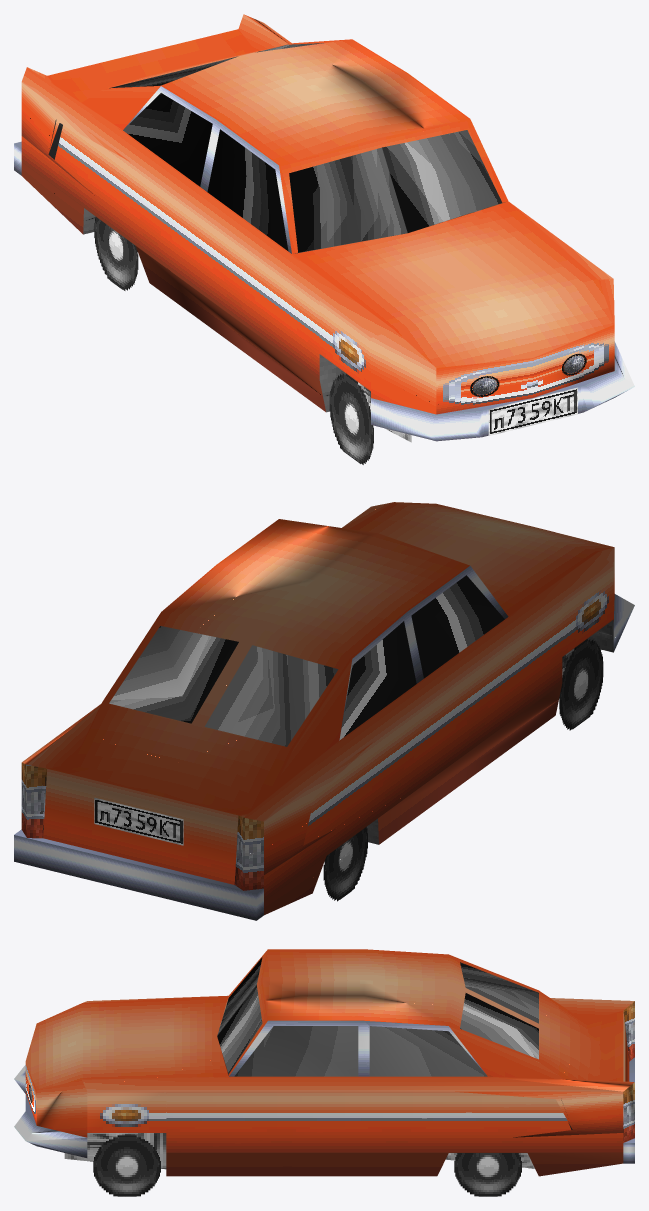
Rendered from PcarweirdZ.obj.
The picture shows the model from 3 angles, top to bottom: view 1: azimuth 30°, elevation 25°; view 2: azimuth 150°, elevation 25°; view 3: azimuth 270°, elevation 25°; orthographic projection. The views are drawn at different scales.
Size of the model in its own units: 666 by 566 by 1834.
17 materials, 17 textured.
